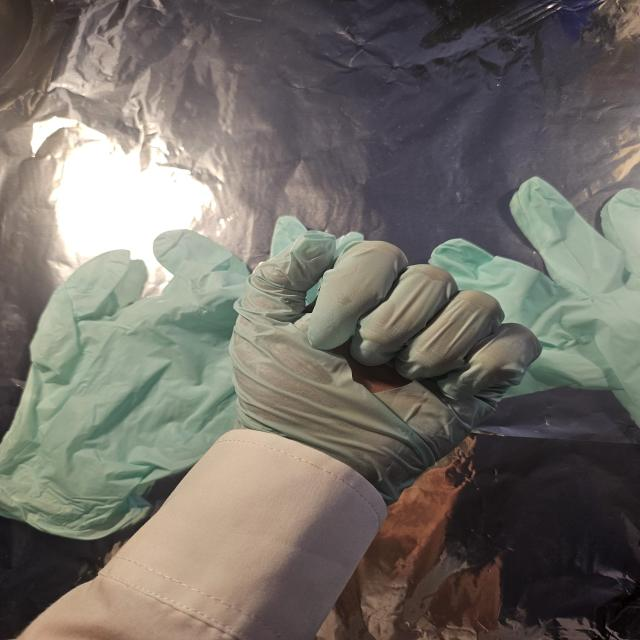gloves_damaged: (231, 229, 551, 508)
